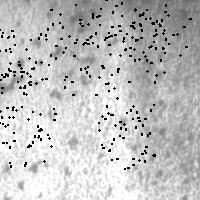pitted_surface: (2, 10, 131, 200), (99, 15, 184, 197), (130, 12, 189, 71), (108, 2, 165, 62), (0, 28, 55, 87), (62, 35, 117, 94), (98, 111, 154, 168), (98, 67, 155, 123), (0, 106, 54, 165), (50, 0, 105, 43), (0, 35, 29, 93)
